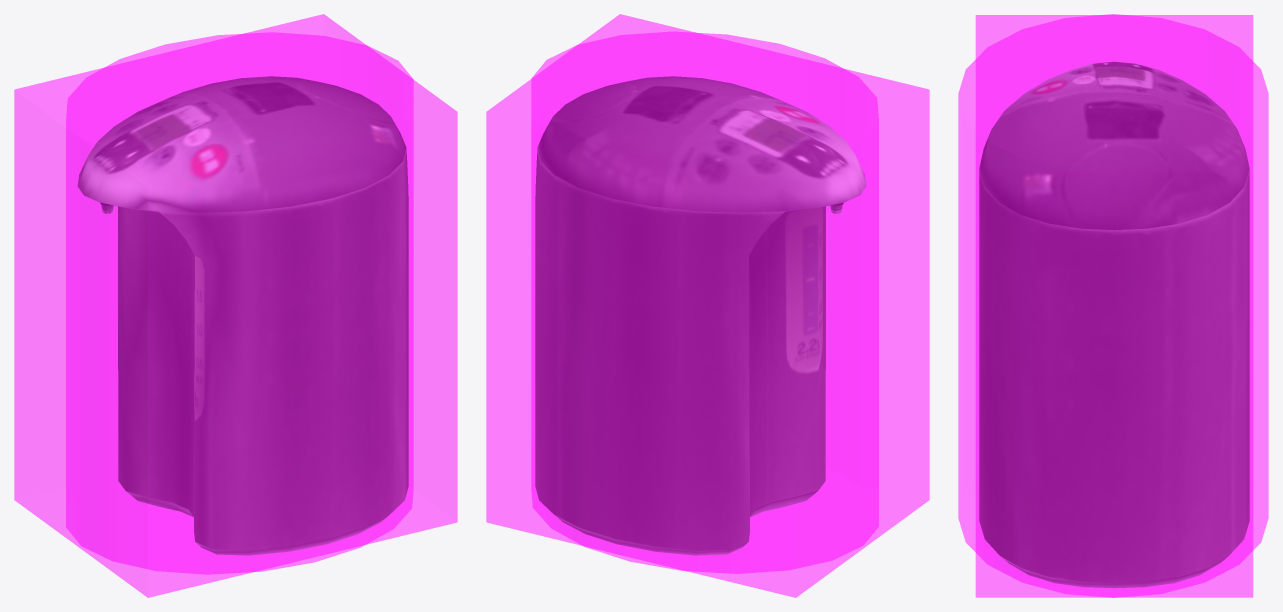
The model's file is pot.fbx.
3 views of the same model, side by side, from view 1: azimuth 30°, elevation 25°; view 2: azimuth 150°, elevation 25°; view 3: azimuth 270°, elevation 25° (orthographic). The views are drawn at different scales.
Parts seen in each view (by area): view 1: pot_boundingBox, pot_boundingBox2, pot; view 2: pot_boundingBox, pot_boundingBox2, pot; view 3: pot_boundingBox2, pot_boundingBox, pot.
Boxes of the visible parts, bbox=[...] form: pot_boundingBox: bbox=[14, 14, 457, 597]; pot_boundingBox2: bbox=[66, 32, 413, 574]; pot: bbox=[77, 76, 408, 555]; pot_boundingBox: bbox=[486, 14, 929, 597]; pot_boundingBox2: bbox=[531, 31, 878, 573]; pot: bbox=[535, 76, 866, 555]; pot_boundingBox2: bbox=[958, 14, 1268, 597]; pot_boundingBox: bbox=[975, 15, 1253, 597]; pot: bbox=[979, 61, 1249, 588].
Bounding box in the file's own units: 26.7 × 33.12 × 21.85.
